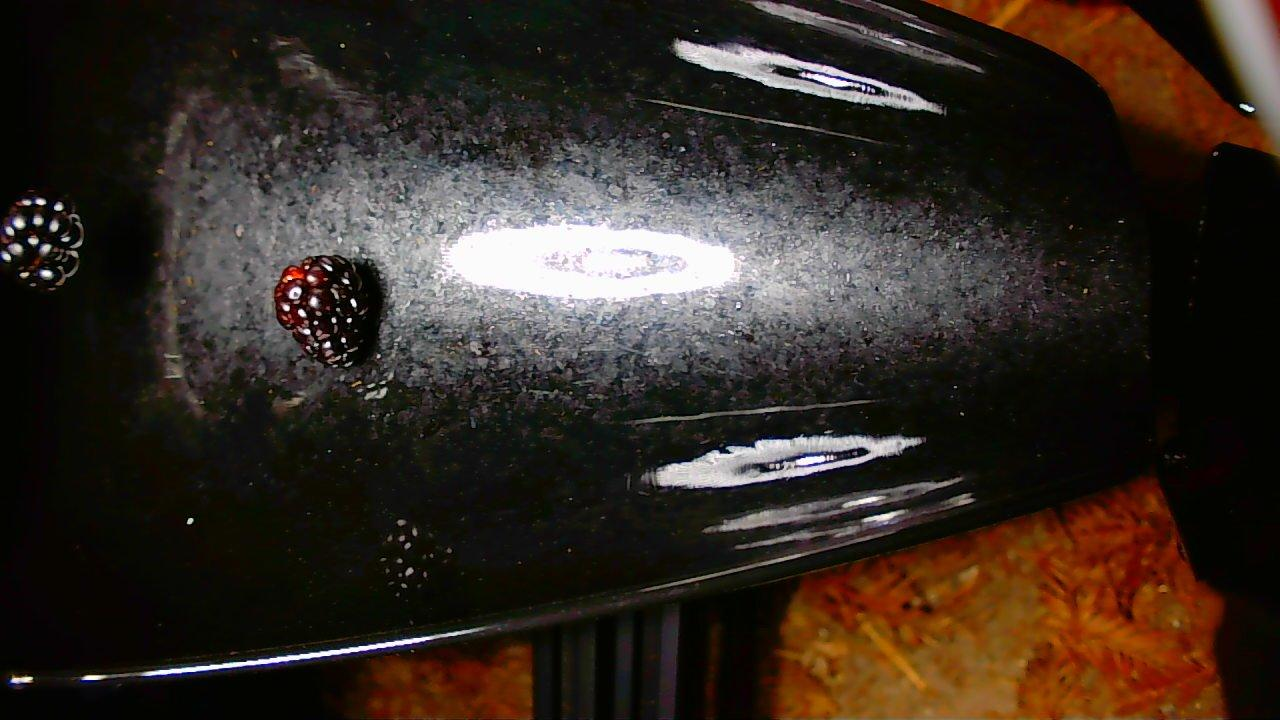berry: (273, 255, 372, 366), (0, 193, 83, 289)
